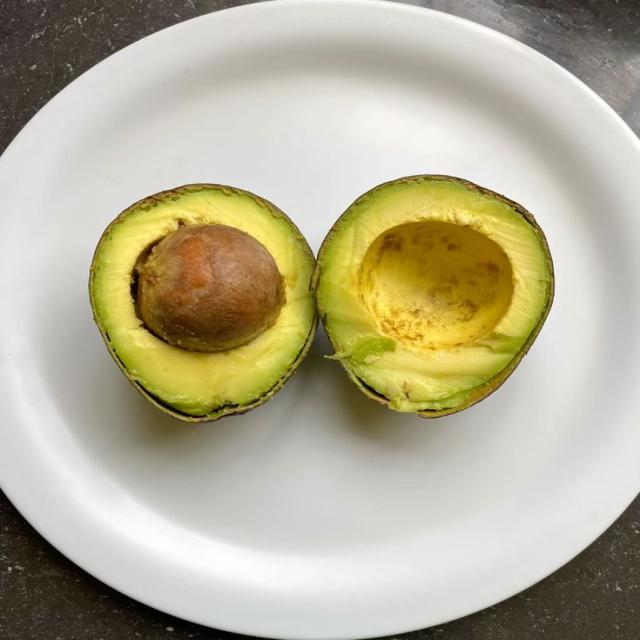avocado: (313, 176, 553, 417), (90, 185, 316, 421)
